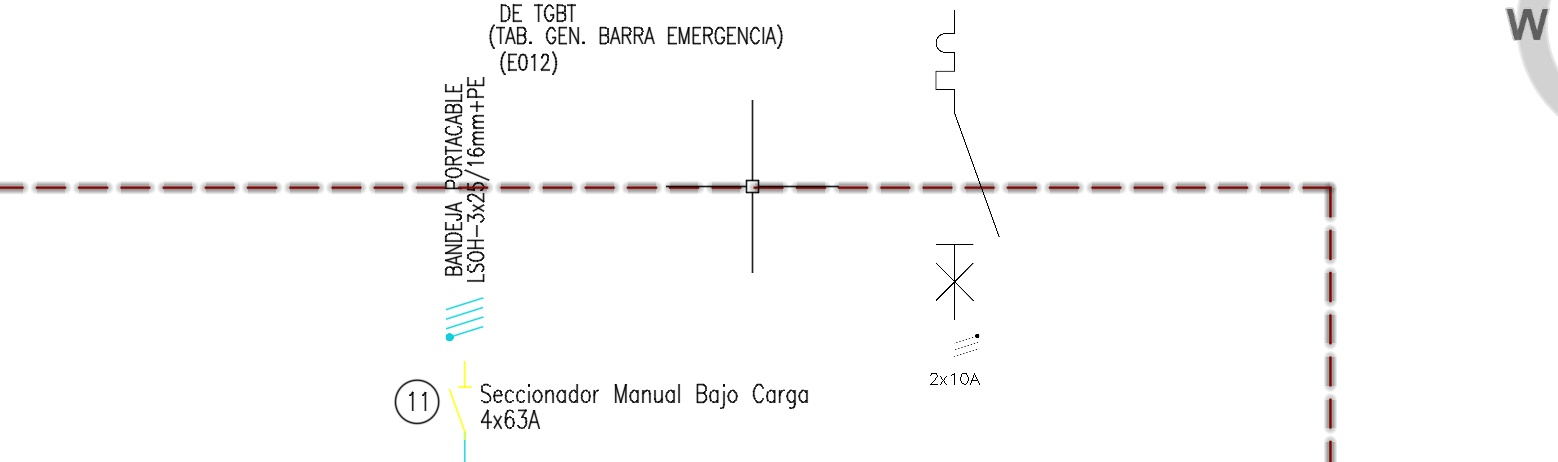interruptor_termomagnetico: (928, 2, 1007, 327)
